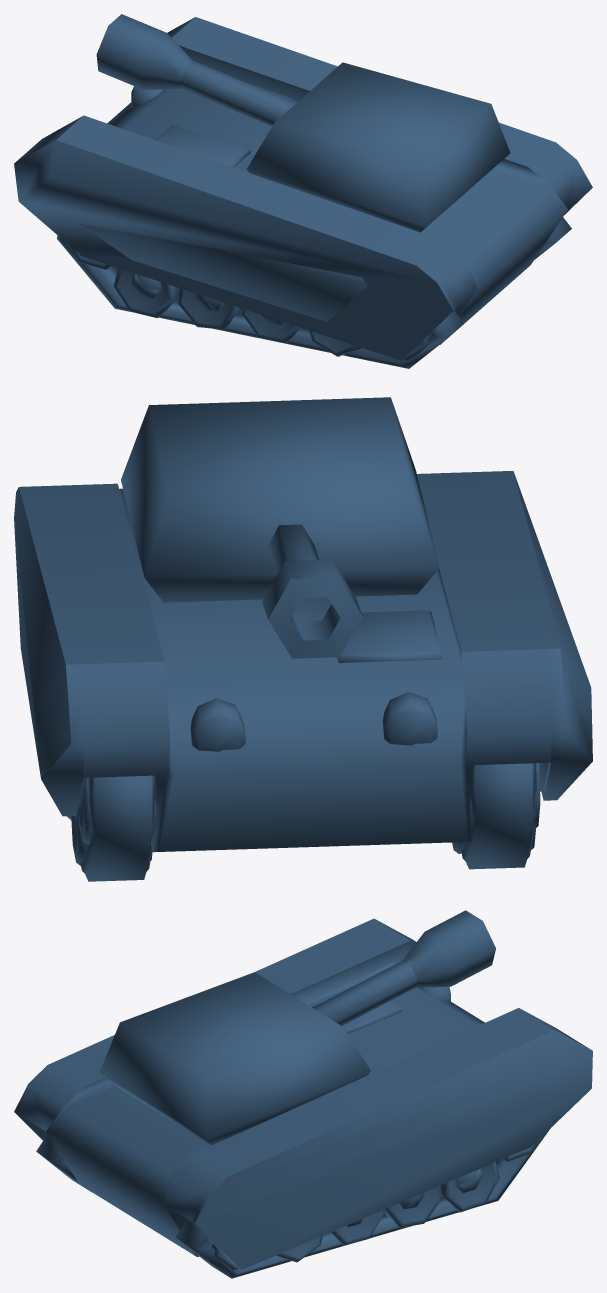
Rendered from ToyObject_008.fbx.
3 renders of one model, top to bottom at view 1: azimuth 30°, elevation 25°; view 2: azimuth 150°, elevation 25°; view 3: azimuth 270°, elevation 25°, orthographic. The views are drawn at different scales.
Parts seen in each view (by area): view 1: 1.046; view 2: 1.046; view 3: 1.046.
Boxes of the visible parts, x1,y1,x2,y2 form: 1.046: [14, 14, 592, 368]; 1.046: [14, 397, 592, 881]; 1.046: [14, 910, 592, 1278].
Size of the model in its own units: 0.266 by 0.1196 by 0.283.
